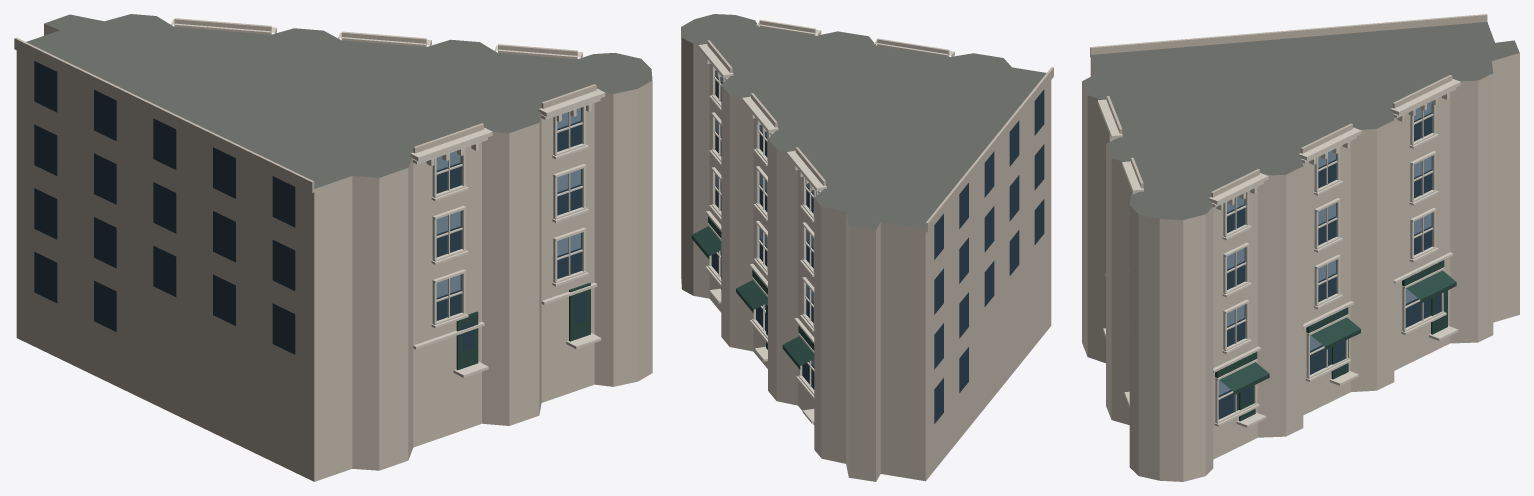
3 renders of one model, left to right at view 1: azimuth 30°, elevation 25°; view 2: azimuth 150°, elevation 25°; view 3: azimuth 270°, elevation 25°, orthographic. The views are drawn at different scales.
Visible parts, largest first — view 1: Footprint 0 / surface 2, Footprint 0 / surface 1, Inset glazing, Cornices and window frames, Facade bay volumes, Sky reflection panels, Storefronts and doors; view 2: Footprint 0 / surface 2, Footprint 0 / surface 1, Inset glazing, Cornices and window frames, Facade bay volumes, Storefronts and doors, Sky reflection panels; view 3: Footprint 0 / surface 2, Footprint 0 / surface 1, Cornices and window frames, Inset glazing, Facade bay volumes, Storefronts and doors, Sky reflection panels.
Boxes of the visible parts, x1=… form: Footprint 0 / surface 2: x1=16, y1=24, x2=652, y2=481; Footprint 0 / surface 1: x1=26, y1=14, x2=652, y2=188; Inset glazing: x1=34, y1=61, x2=586, y2=354; Cornices and window frames: x1=171, y1=19, x2=605, y2=377; Facade bay volumes: x1=14, y1=18, x2=596, y2=192; Sky reflection panels: x1=436, y1=108, x2=580, y2=297; Storefronts and doors: x1=456, y1=283, x2=590, y2=370; Footprint 0 / surface 2: x1=681, y1=27, x2=1051, y2=481; Footprint 0 / surface 1: x1=681, y1=14, x2=1046, y2=229; Inset glazing: x1=711, y1=70, x2=1044, y2=423; Cornices and window frames: x1=698, y1=22, x2=954, y2=423; Facade bay volumes: x1=707, y1=19, x2=1053, y2=232; Storefronts and doors: x1=691, y1=216, x2=814, y2=369; Sky reflection panels: x1=715, y1=70, x2=814, y2=366; Footprint 0 / surface 2: x1=1082, y1=53, x2=1519, y2=481; Footprint 0 / surface 1: x1=1082, y1=22, x2=1519, y2=219; Cornices and window frames: x1=1097, y1=78, x2=1460, y2=427; Inset glazing: x1=1218, y1=104, x2=1444, y2=419; Facade bay volumes: x1=1090, y1=14, x2=1487, y2=197; Storefronts and doors: x1=1215, y1=260, x2=1456, y2=421; Sky reflection panels: x1=1218, y1=101, x2=1431, y2=395.
Size of the model in its own units: 21.98 by 13.82 by 20.4.
